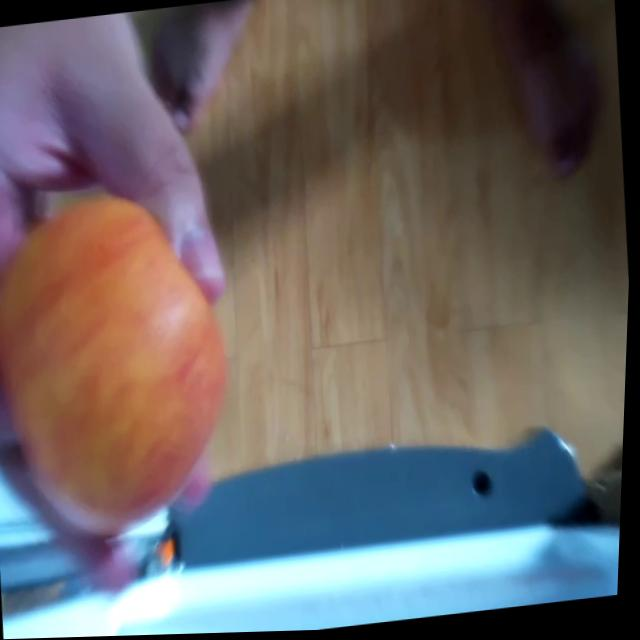apple: (0, 174, 250, 539)
